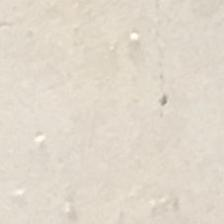Non_Crack: (27, 3, 214, 209)
